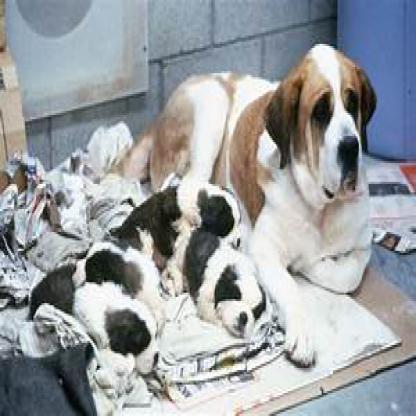dog: (138, 44, 386, 232), (130, 167, 246, 259), (179, 226, 269, 343), (68, 234, 125, 291)
